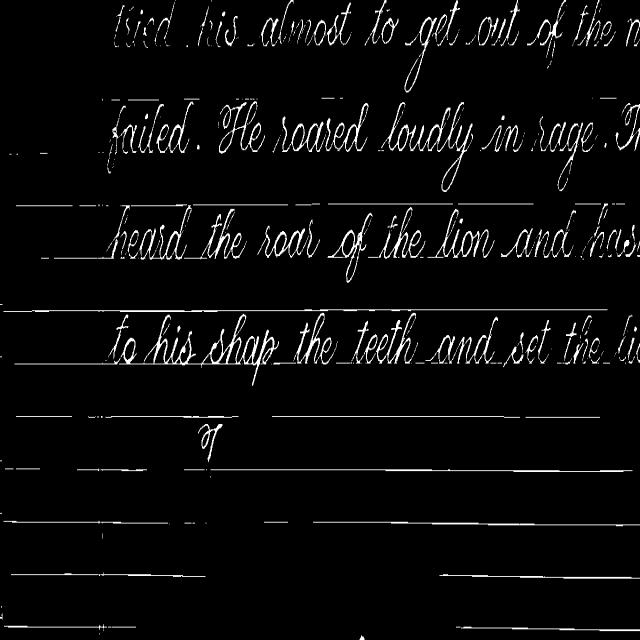hand: (184, 257, 199, 263), (360, 635, 364, 639)
noise: (3, 308, 608, 316), (182, 466, 632, 475), (310, 518, 640, 527), (438, 572, 640, 581), (3, 622, 136, 635), (456, 625, 640, 634), (10, 571, 206, 579), (270, 414, 600, 418), (327, 203, 534, 209), (2, 519, 171, 524), (97, 414, 239, 419), (75, 466, 151, 474), (3, 145, 49, 158), (192, 203, 290, 208), (14, 362, 112, 366), (40, 256, 112, 261), (120, 204, 186, 209), (599, 96, 622, 108), (4, 466, 42, 472), (16, 415, 72, 419), (261, 518, 289, 524), (16, 204, 74, 206), (574, 202, 602, 206), (125, 98, 160, 101), (336, 358, 351, 364), (294, 203, 320, 206), (234, 98, 258, 101), (320, 97, 338, 101), (182, 98, 200, 102), (78, 204, 110, 206), (610, 203, 625, 206), (272, 362, 294, 364), (110, 98, 123, 101), (184, 523, 194, 524)
not-noise: (114, 0, 617, 67), (381, 102, 473, 192), (108, 100, 194, 170), (200, 313, 279, 377), (532, 117, 597, 191), (273, 103, 368, 152), (106, 205, 192, 259), (404, 14, 452, 92), (426, 316, 498, 364), (350, 312, 416, 364), (508, 210, 576, 258), (328, 213, 372, 283), (435, 209, 494, 257), (142, 314, 194, 364), (143, 314, 194, 364), (378, 206, 425, 259), (218, 99, 264, 153), (200, 208, 246, 259), (258, 220, 319, 257), (293, 312, 336, 364), (580, 221, 640, 257), (504, 320, 549, 365), (562, 316, 604, 363), (108, 314, 136, 364), (488, 115, 524, 152), (616, 315, 640, 363), (616, 103, 640, 149), (198, 424, 222, 461), (626, 19, 640, 46), (196, 144, 200, 149), (604, 142, 606, 148)
